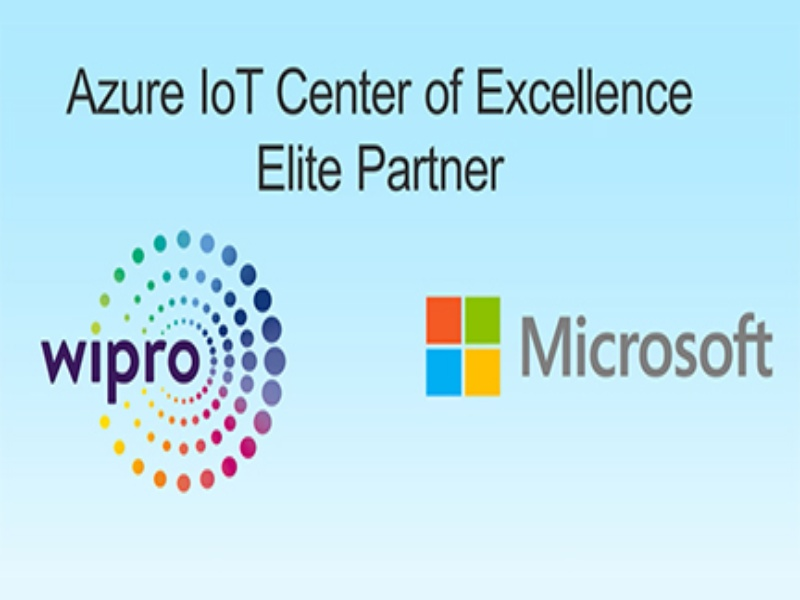wipro: (43, 226, 295, 494)
